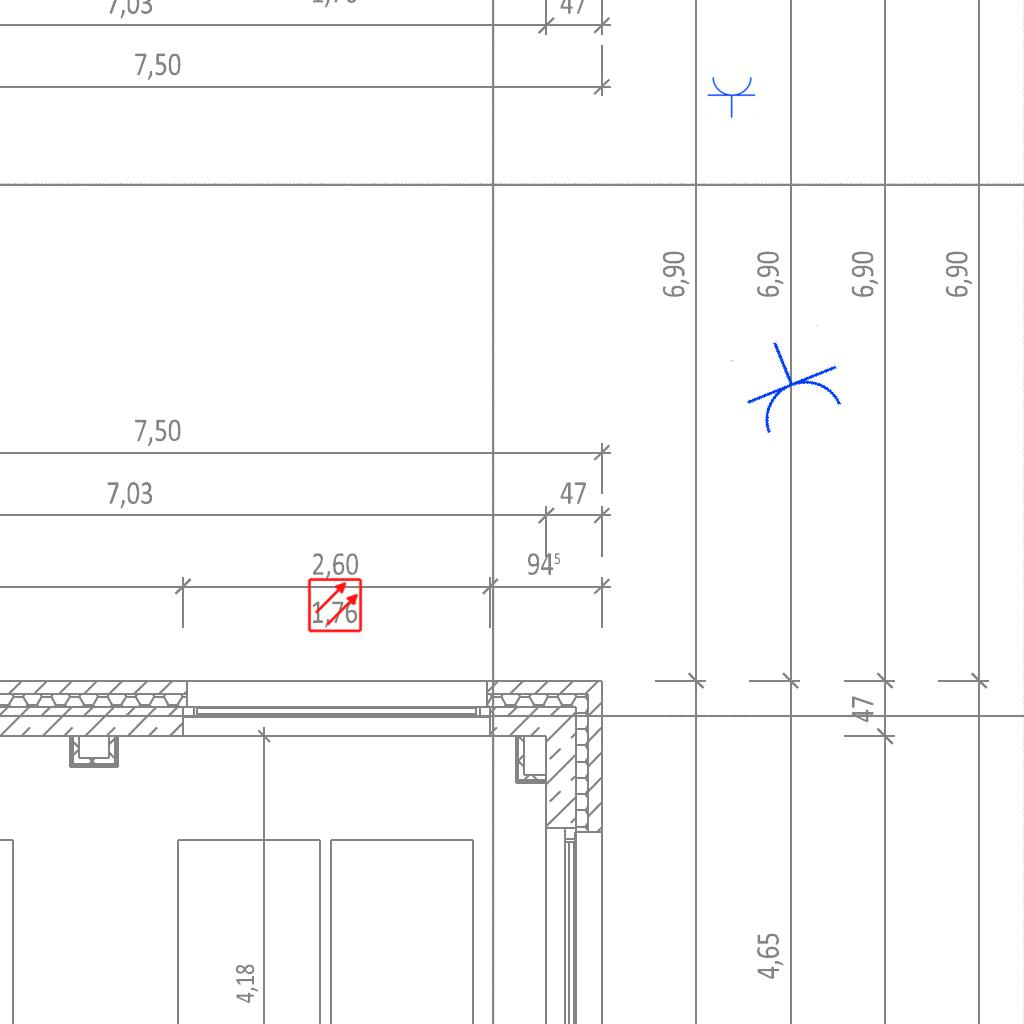RMO_Rauchmelder_optischer: (307, 577, 363, 633)
Schukosteckdose_einfach: (727, 323, 853, 442), (707, 75, 757, 118)
